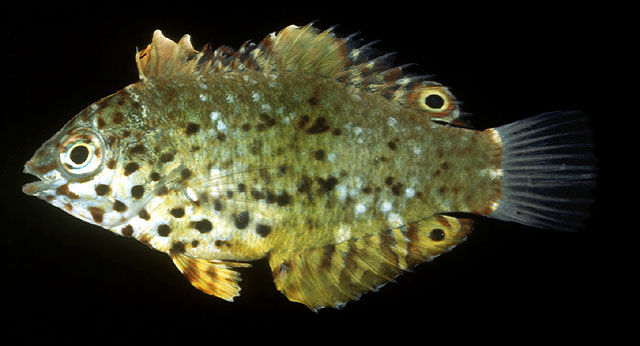fish: (19, 22, 592, 313)
